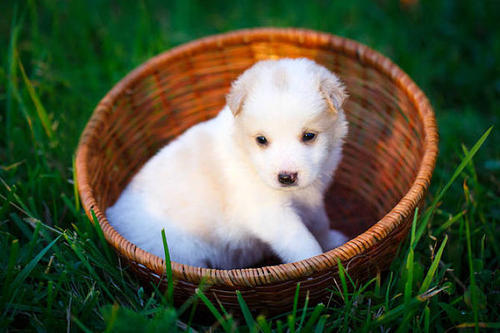dog: (214, 53, 355, 199)
